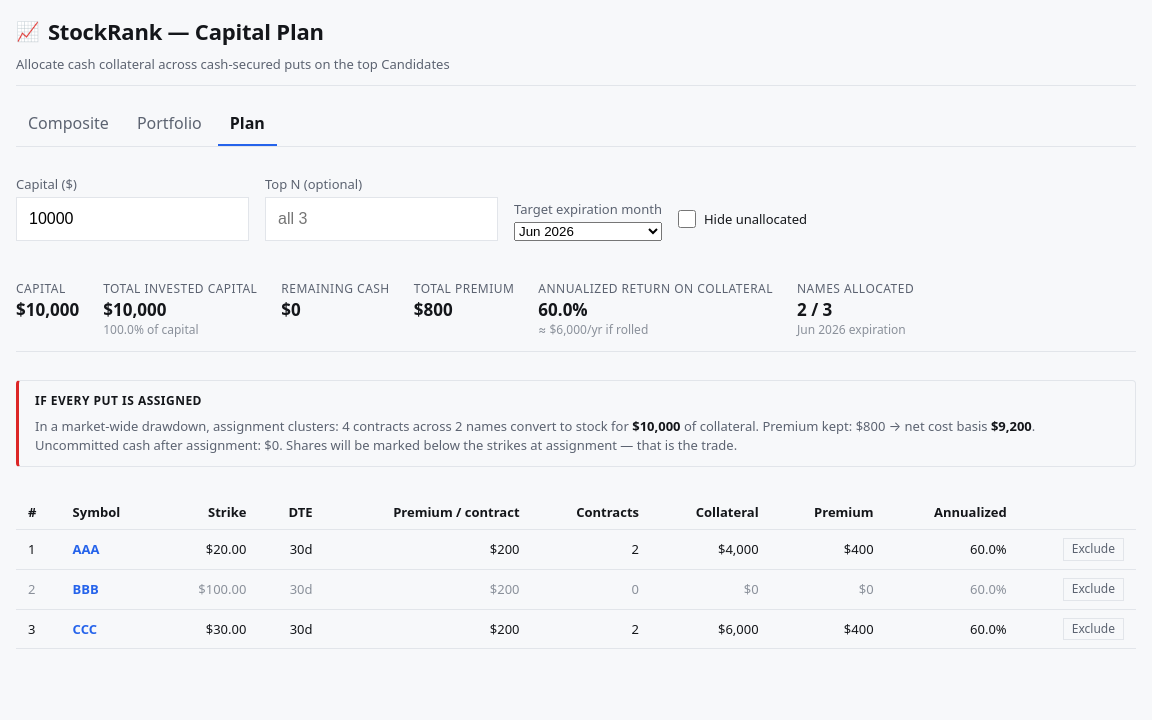
Scenario: <CapitalPlanScreen /> › hides unallocated (zero-contract) rows when the toggle is on
Replace the text in the number field named "capital available" with "5000" at {"x": 132, "y": 219}, box x1=16 y1=197 x2=249 y2=241
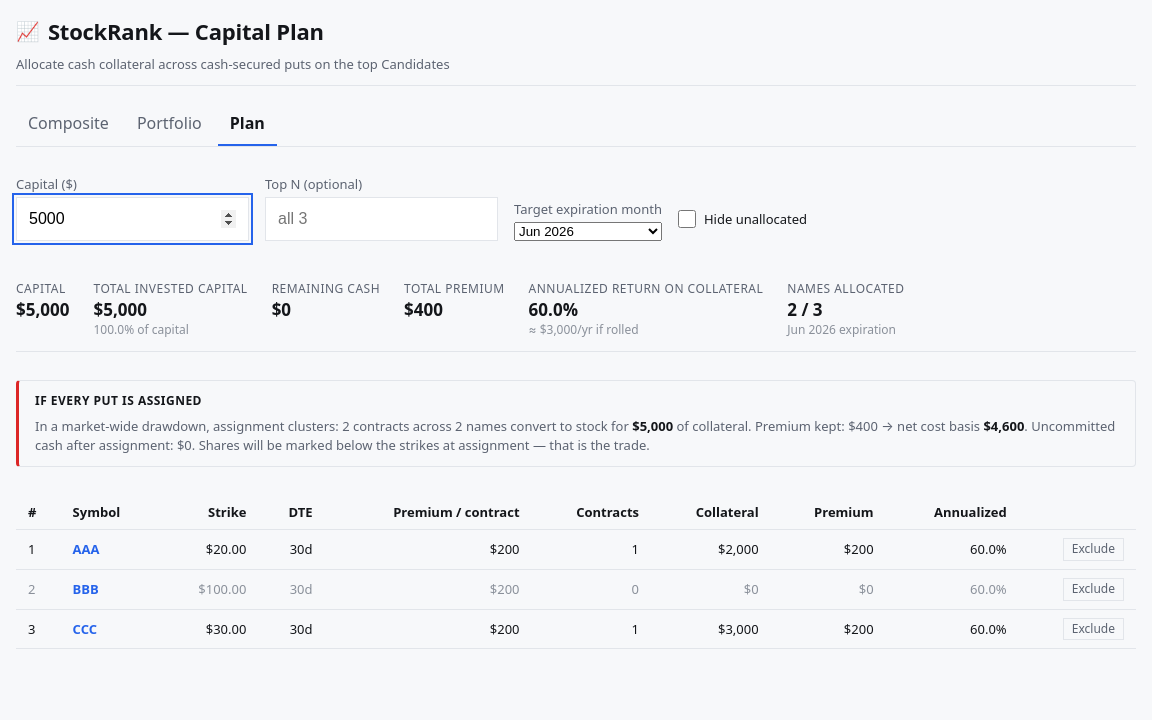
Expected: the button "AAA" is shown, x1=73 y1=540 x2=100 y2=558
Expected: the button "BBB" is shown, x1=73 y1=580 x2=99 y2=598
// Toggle hide-unallocated on — BBB (the zero-contract row) disappears.
Click the checkbox labelled "Hide unallocated" at {"x": 687, "y": 219}, box x1=678 y1=197 x2=696 y2=241
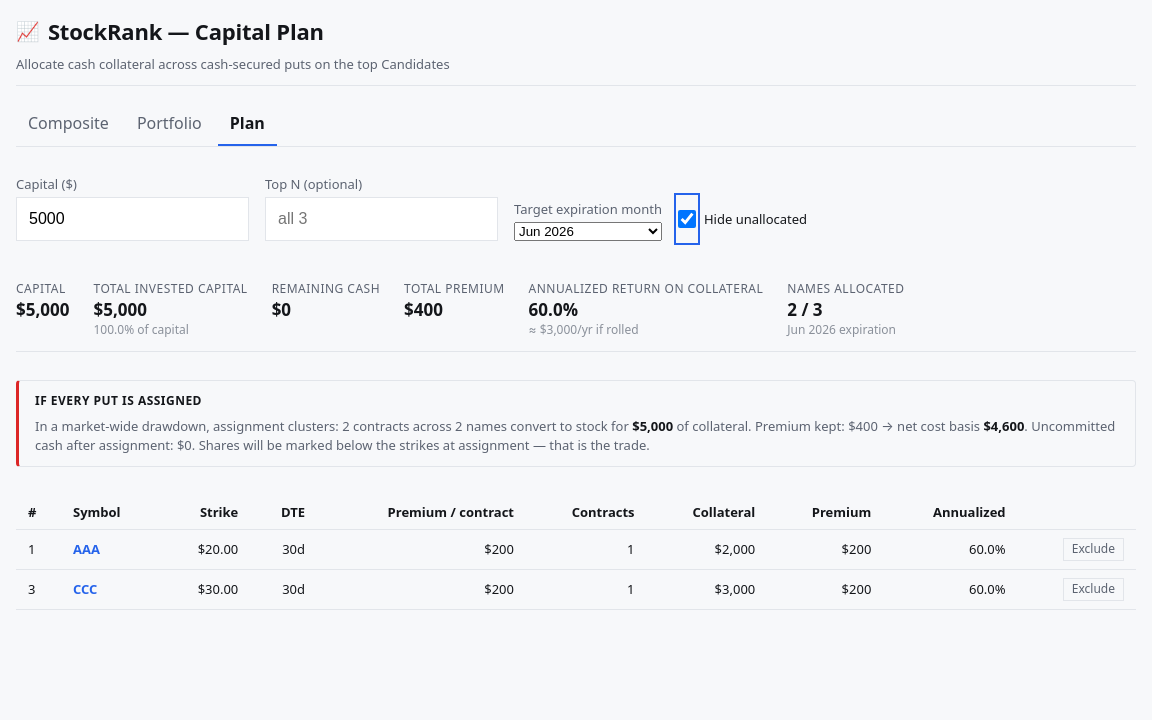
Expected: the button "AAA" is shown, x1=73 y1=540 x2=100 y2=558
Now the button "BBB" is gone
// Toggle back off — BBB reappears.
Click the checkbox labelled "Hide unallocated" at {"x": 687, "y": 219}, box x1=678 y1=197 x2=696 y2=241
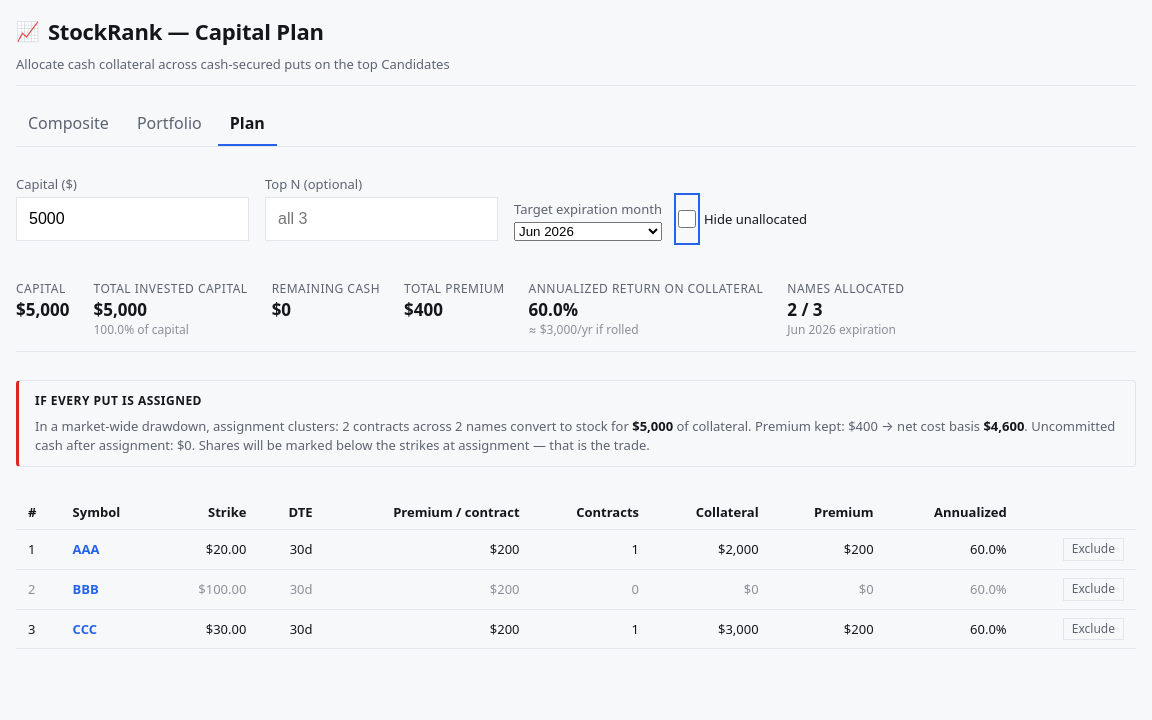
Now the button "BBB" is shown, box x1=73 y1=580 x2=99 y2=598
